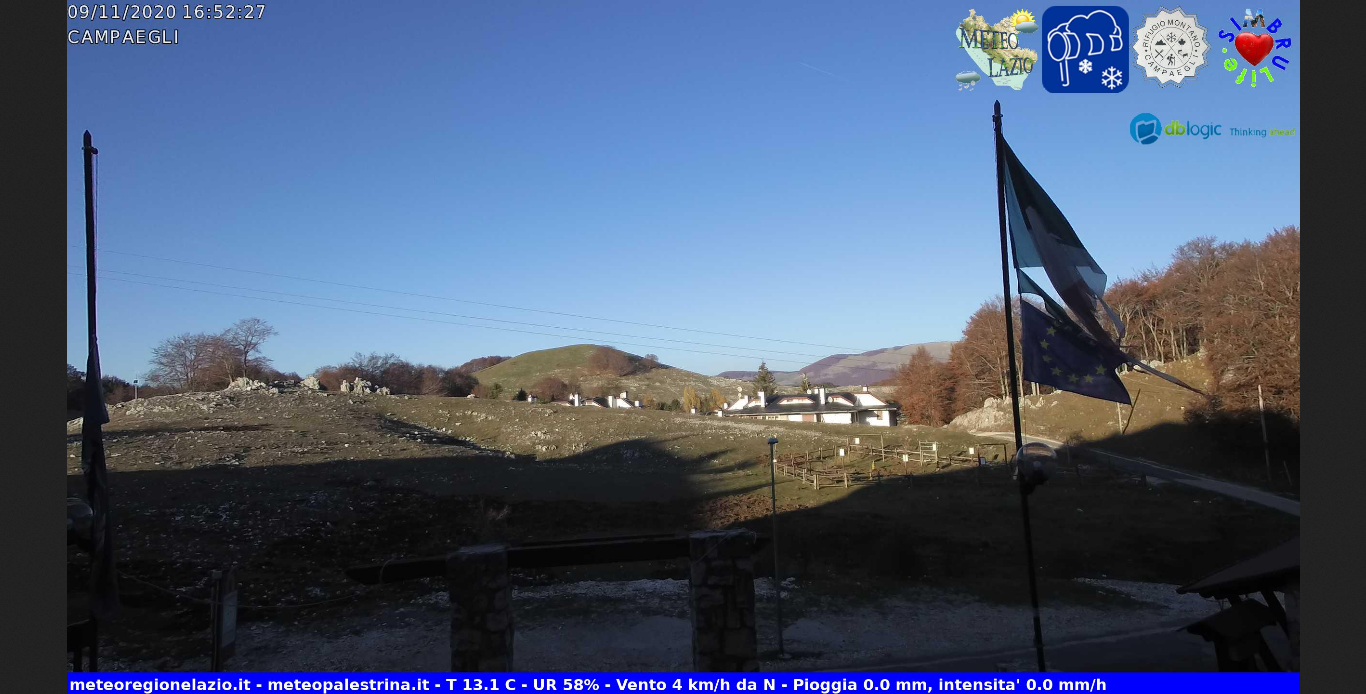maybe: (988, 95, 1135, 337), (999, 285, 1141, 414)
